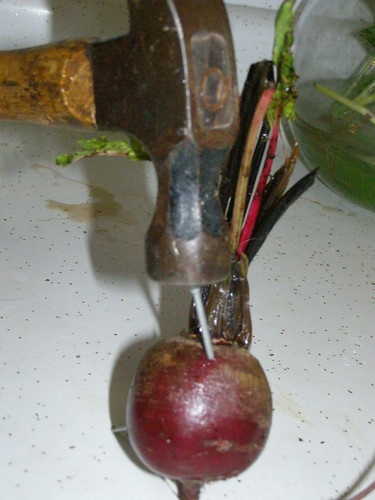hammer: (1, 1, 244, 287)
